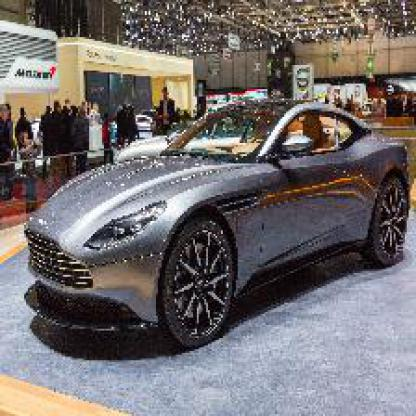not_emergency: (28, 93, 414, 329)
